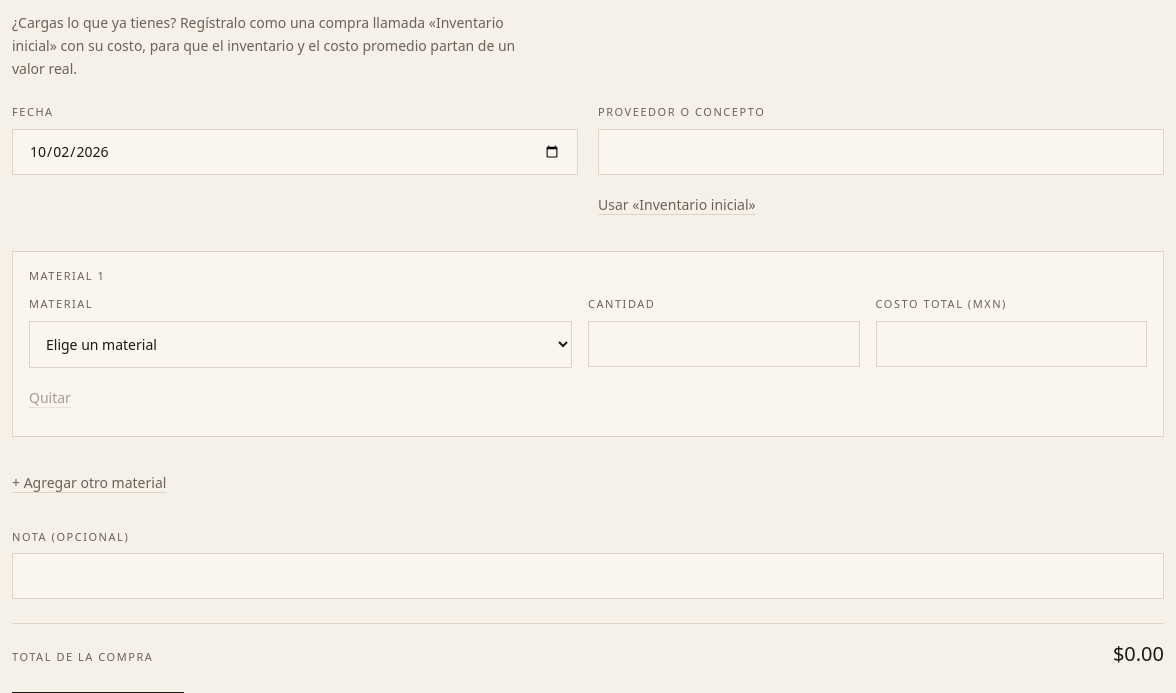
PurchaseForm: item rows › fills the supplier with «Inventario inicial» in one click
Click the button "Usar «Inventario inicial»" at (677, 205), box [598, 183, 756, 227]
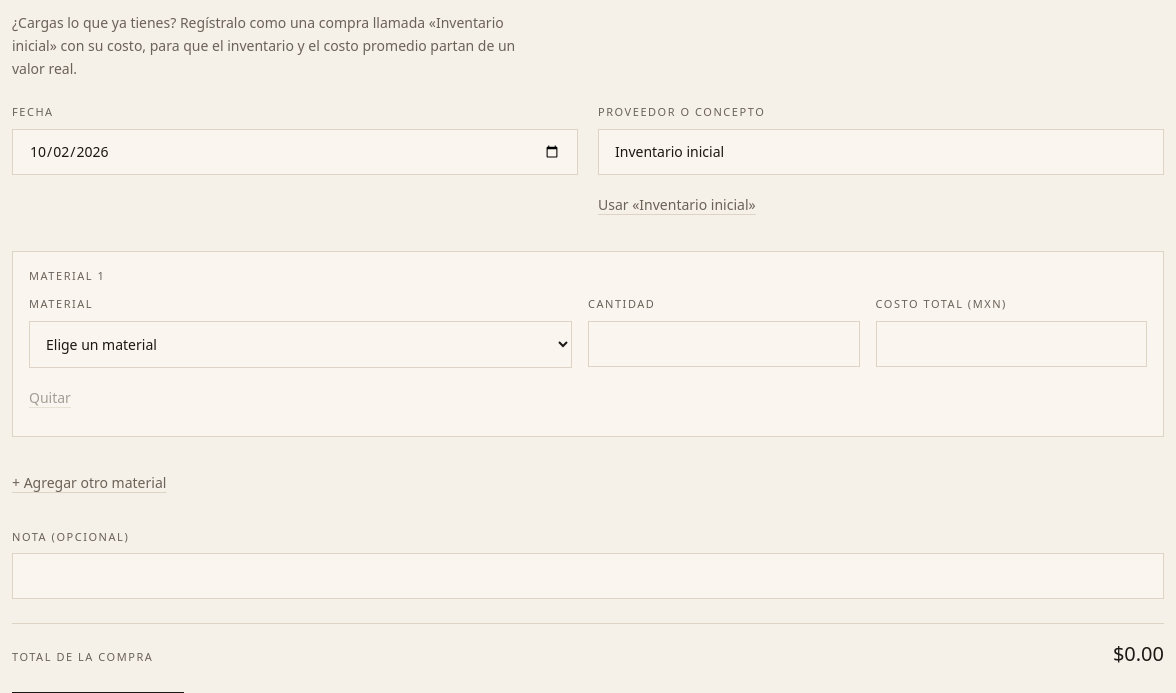
Now the field labelled "Proveedor o concepto" holds "Inventario inicial", box [598, 129, 1164, 175]
